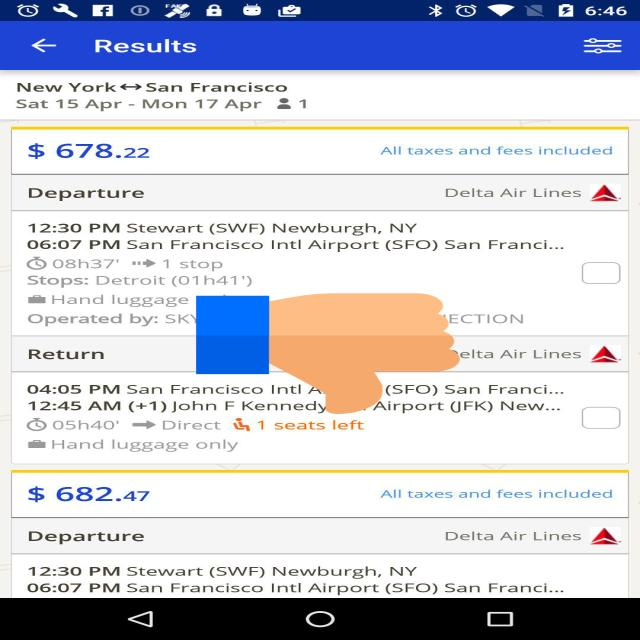obstruction: (196, 290, 460, 417)
